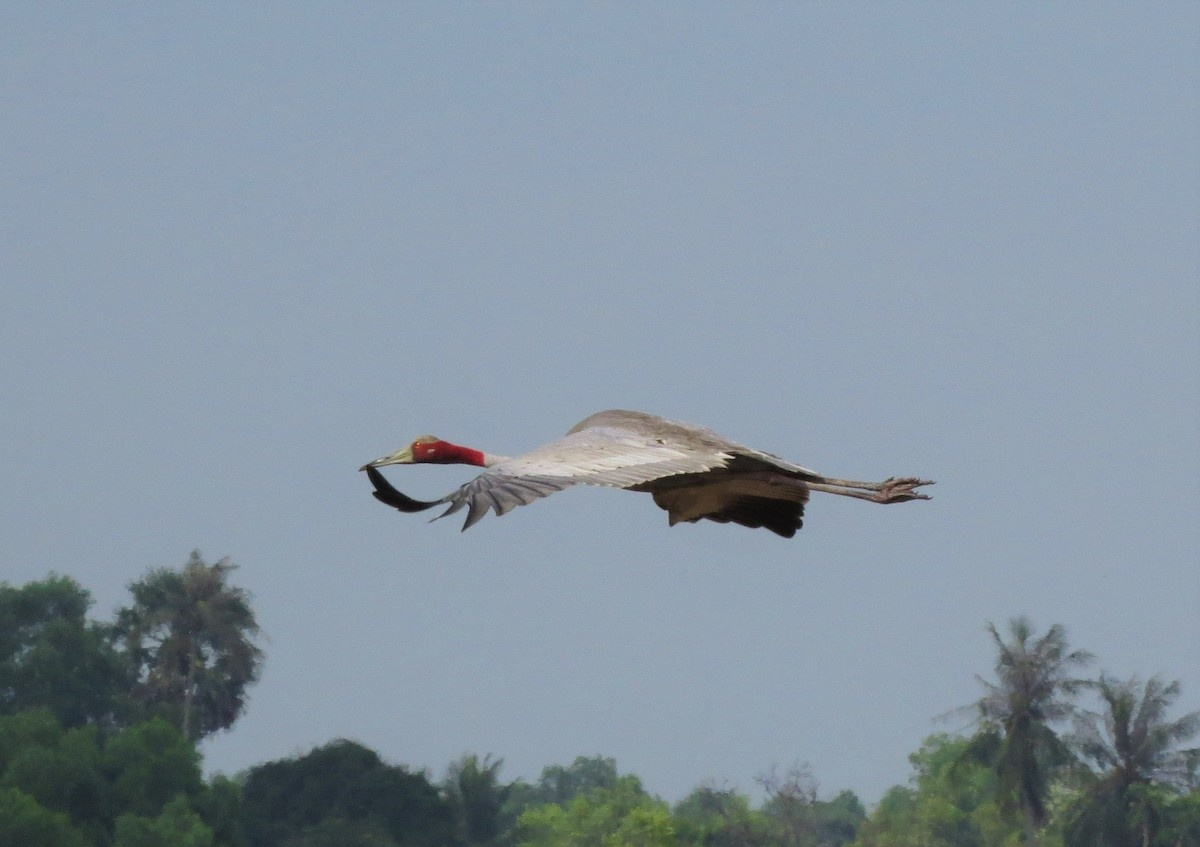crane: (358, 398, 969, 568)
